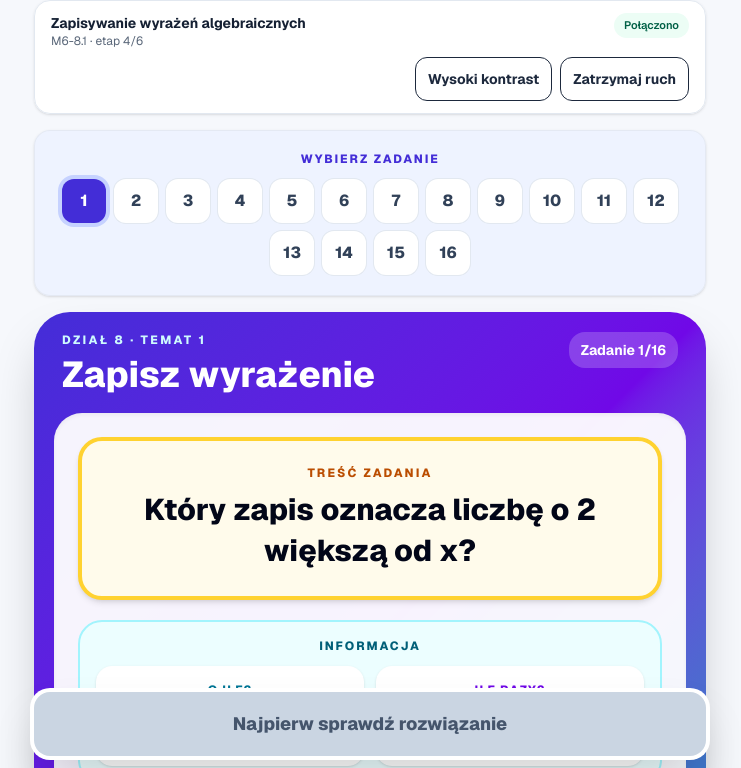
Test: Dział 8 — kanały tablicy i ucznia live › uczeń live dostaje ten sam model, a odpowiedź bez punktu odblokowuje wymagany przycisk
Expected: the text "Zadanie 1/16" is shown once, left=569, top=332, right=678, bottom=368
What coordinates should you click on to do the following:
click the button "2"
I would click on:
 (136, 201)
Its box is left=114, top=179, right=158, bottom=223.
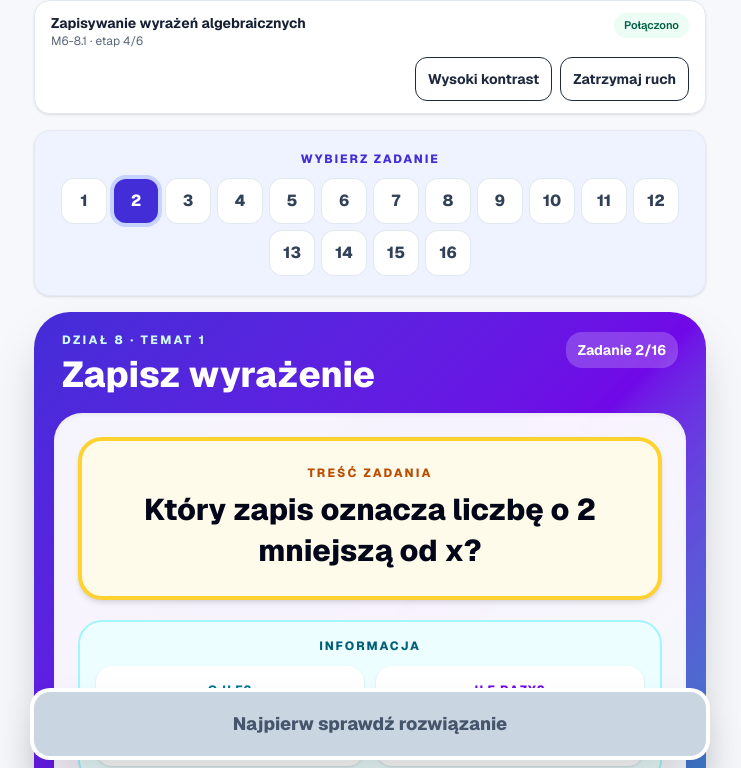
Expected: the text "Zadanie 2/16" is shown once, left=566, top=332, right=678, bottom=368
What coordinates should you click on to do the following:
click the button "1"
I would click on:
 (84, 201)
Its box is left=62, top=179, right=106, bottom=223.
(page scrolled)
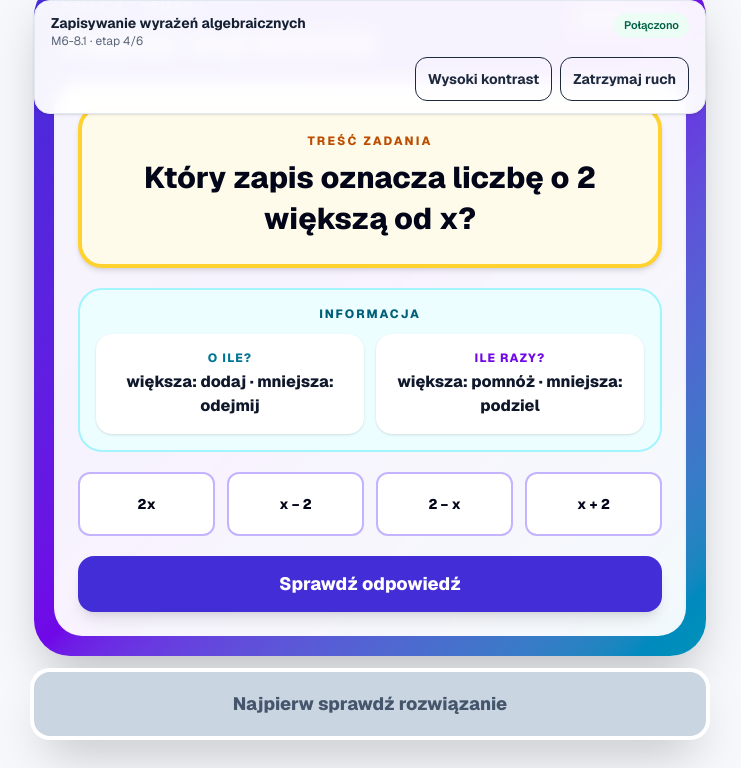
Expected: the button "Najpierw sprawdź rozwiązanie" is disabled, left=34, top=672, right=706, bottom=736
What coordinates should you click on to do the following:
click the button "2x"
I would click on:
 (146, 504)
Its box is left=78, top=472, right=215, bottom=536.
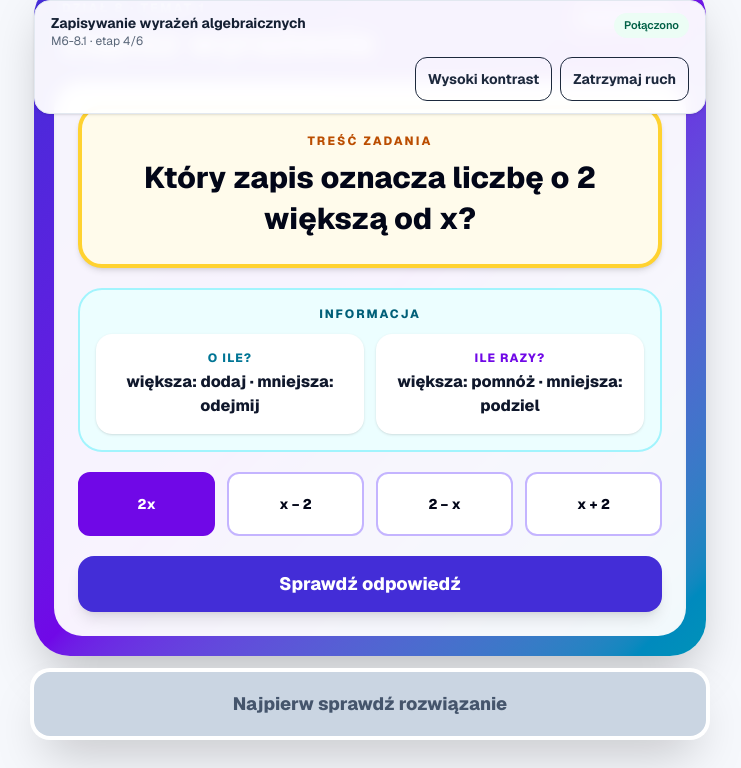
What coordinates should you click on to do the following:
click the button "Sprawdź odpowiedź"
I would click on:
 (370, 584)
Its box is left=78, top=556, right=662, bottom=612.
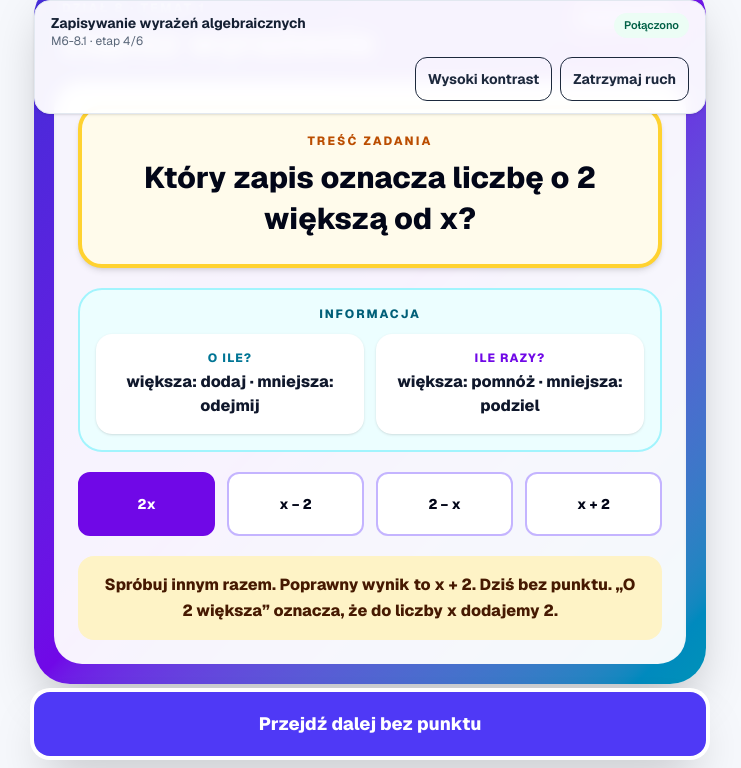
Now the button "Przejdź dalej bez punktu" is enabled, box left=34, top=692, right=706, bottom=756
